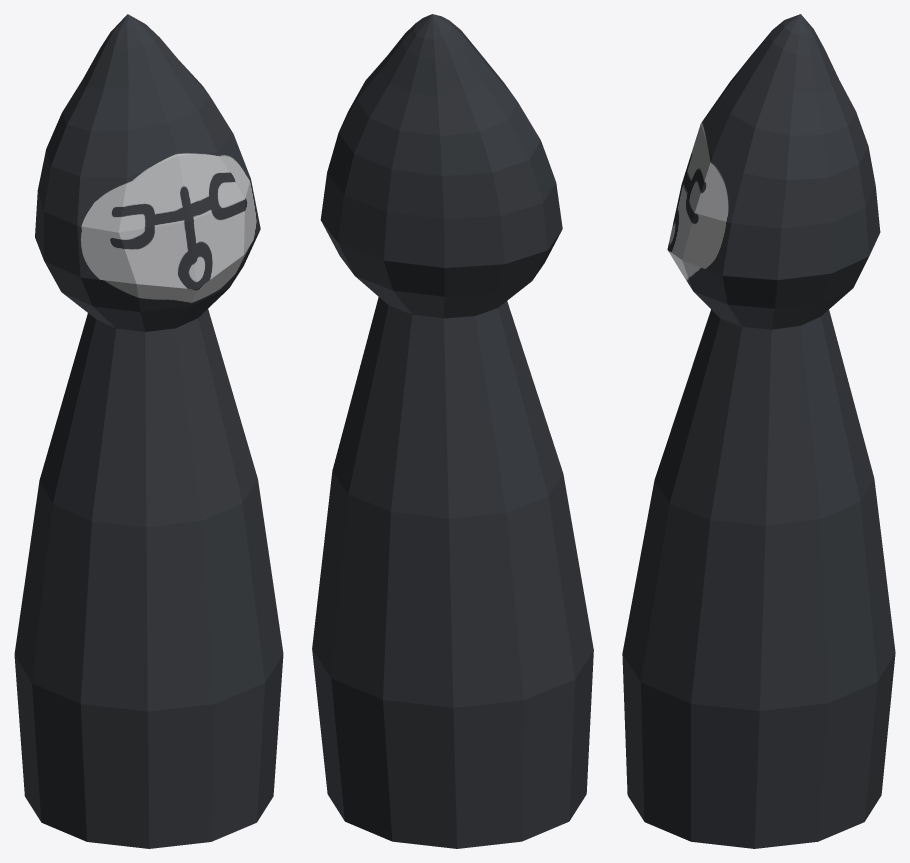
File: Jumala1.fbx
3 renders of one model, left to right at view 1: azimuth 30°, elevation 25°; view 2: azimuth 150°, elevation 25°; view 3: azimuth 270°, elevation 25°, orthographic. The views are drawn at different scales.
Parts seen in each view (by area): view 1: Jumala1; view 2: Jumala1; view 3: Jumala1.
Boxes of the visible parts, <box> form: Jumala1: <box>14,14,283,848</box>; Jumala1: <box>312,14,593,848</box>; Jumala1: <box>622,14,895,848</box>.
Size of the model in its own units: 364 by 1137 by 360.
